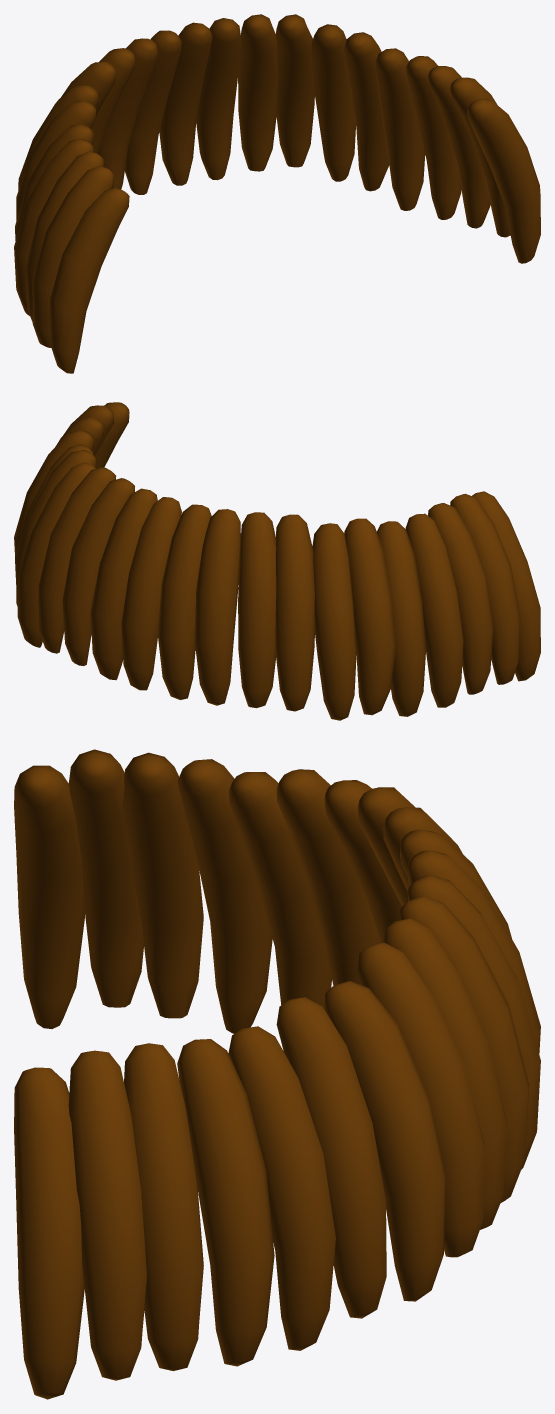
File: Hair_Base.fbx
3 views of the same model, one above another, from view 1: azimuth 30°, elevation 25°; view 2: azimuth 150°, elevation 25°; view 3: azimuth 270°, elevation 25° (orthographic). The views are drawn at different scales.
Parts seen in each view (by area): view 1: Hair; view 2: Hair; view 3: Hair.
Boxes of the visible parts, x1,y1,x2,y2 form: Hair: (14,14,540,373); Hair: (14,402,540,720); Hair: (14,749,540,1399).
Bounding box in the file's own units: 63.73 × 25.9 × 35.59.
